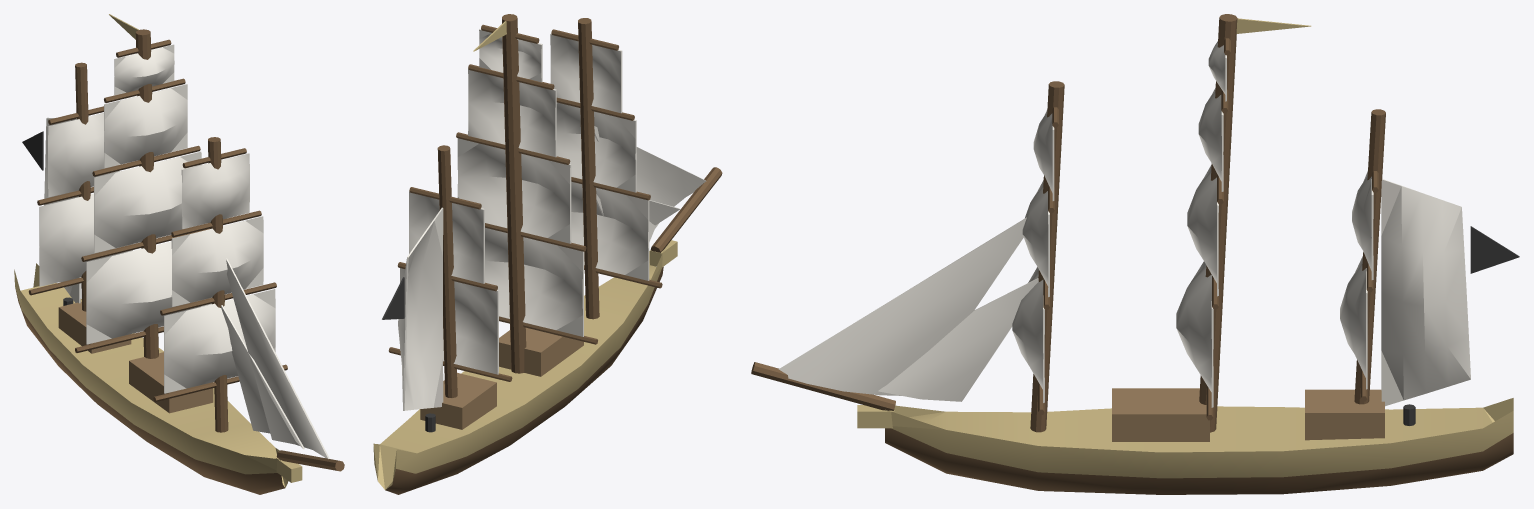
File: Clipper.fbx
The picture shows the model from 3 angles, left to right: view 1: azimuth 30°, elevation 25°; view 2: azimuth 150°, elevation 25°; view 3: azimuth 270°, elevation 25°; orthographic projection. The views are drawn at different scales.
Parts seen in each view (by area): view 1: Clip_Body; view 2: Clip_Body; view 3: Clip_Body.
Part boxes in pixels (x1,y1,x2,y2): Clip_Body: (14, 14, 344, 494); Clip_Body: (373, 14, 722, 494); Clip_Body: (751, 14, 1519, 494).
Bounding box in the file's own units: 4.32 × 10.81 × 15.92.
